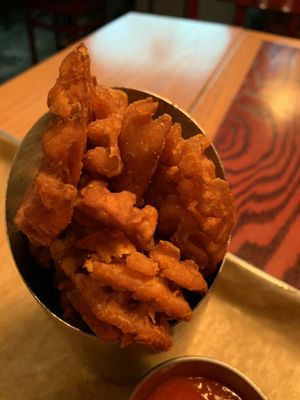sushi: (126, 356, 271, 400)
